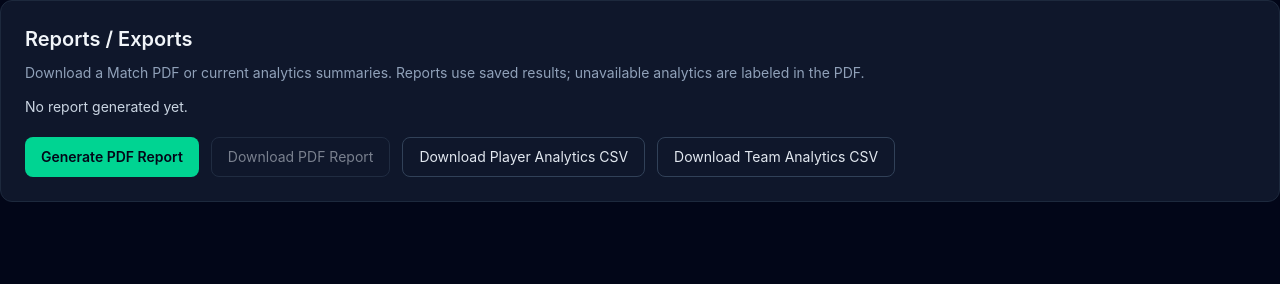
report states and actions › starts a job only from an explicit Generate action
expect the text "No report generated yet." is shown: met, box top-left (25, 98), bottom-right (188, 115)
Step 1. Click the button "Generate PDF Report" → (112, 157), box top-left (25, 137), bottom-right (199, 177)
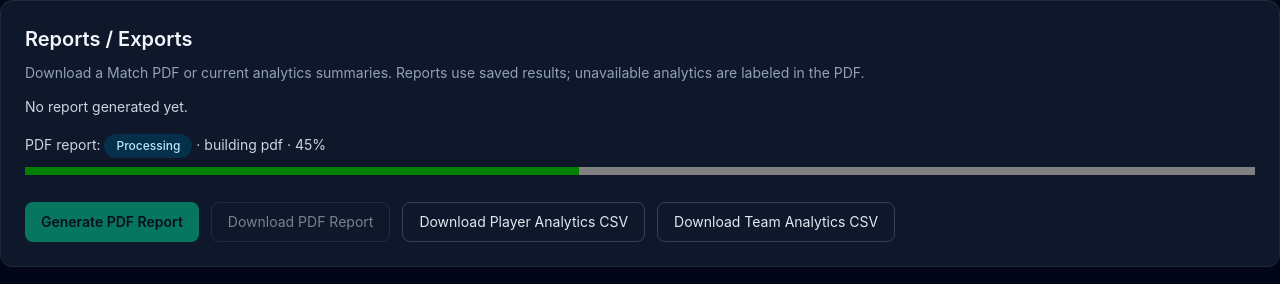
expect the button "Generate PDF Report" is disabled: met, box top-left (25, 202), bottom-right (199, 242)
